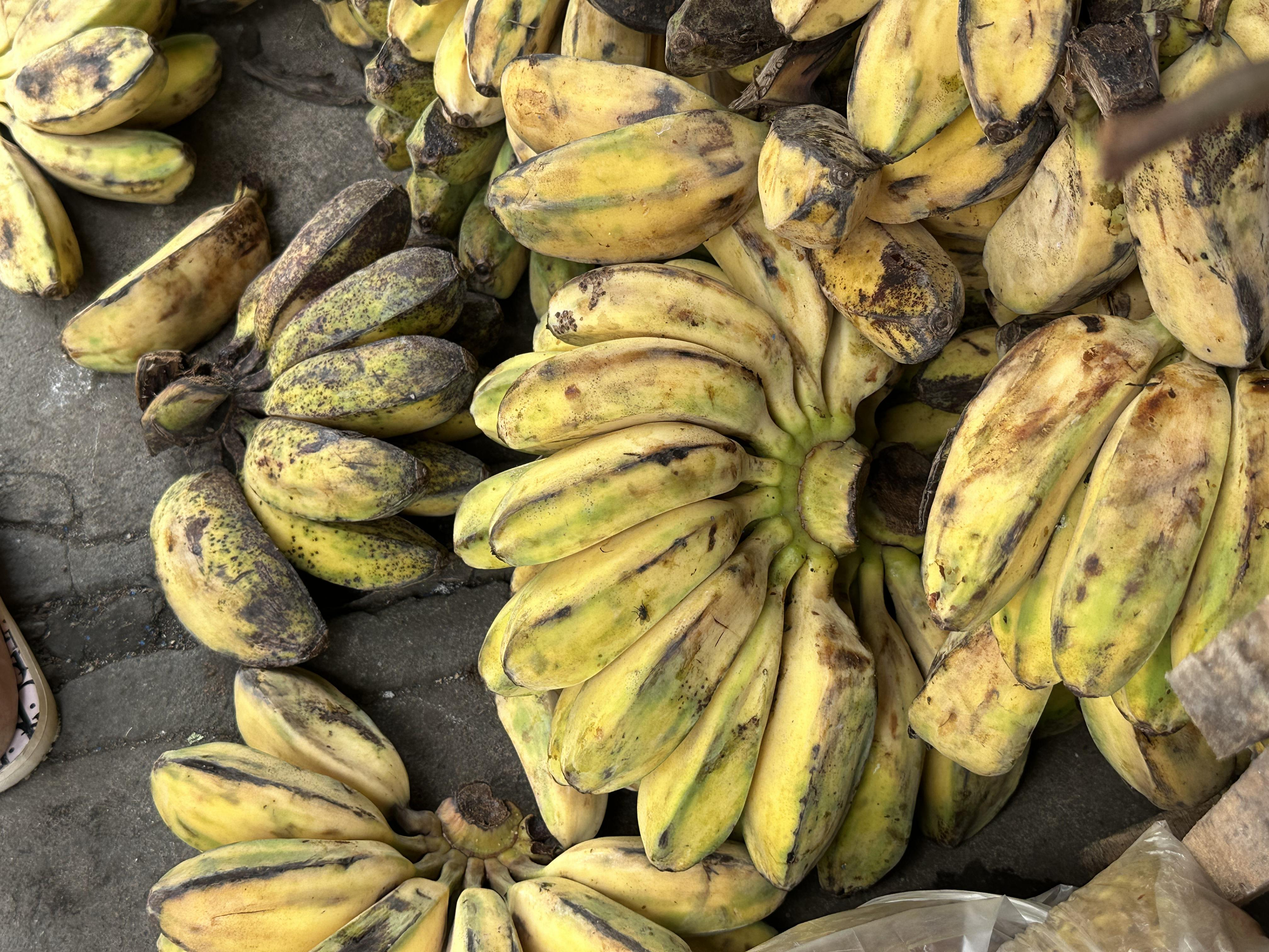ripe: (487, 55, 963, 363), (872, 101, 1269, 375), (770, 0, 1079, 163), (388, 0, 647, 126)
underripe: (452, 194, 899, 893), (148, 667, 786, 952), (150, 180, 502, 666), (922, 316, 1269, 731), (0, 0, 222, 302), (818, 632, 1026, 893), (365, 37, 528, 298)
